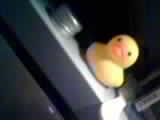duck: (79, 31, 137, 93)
